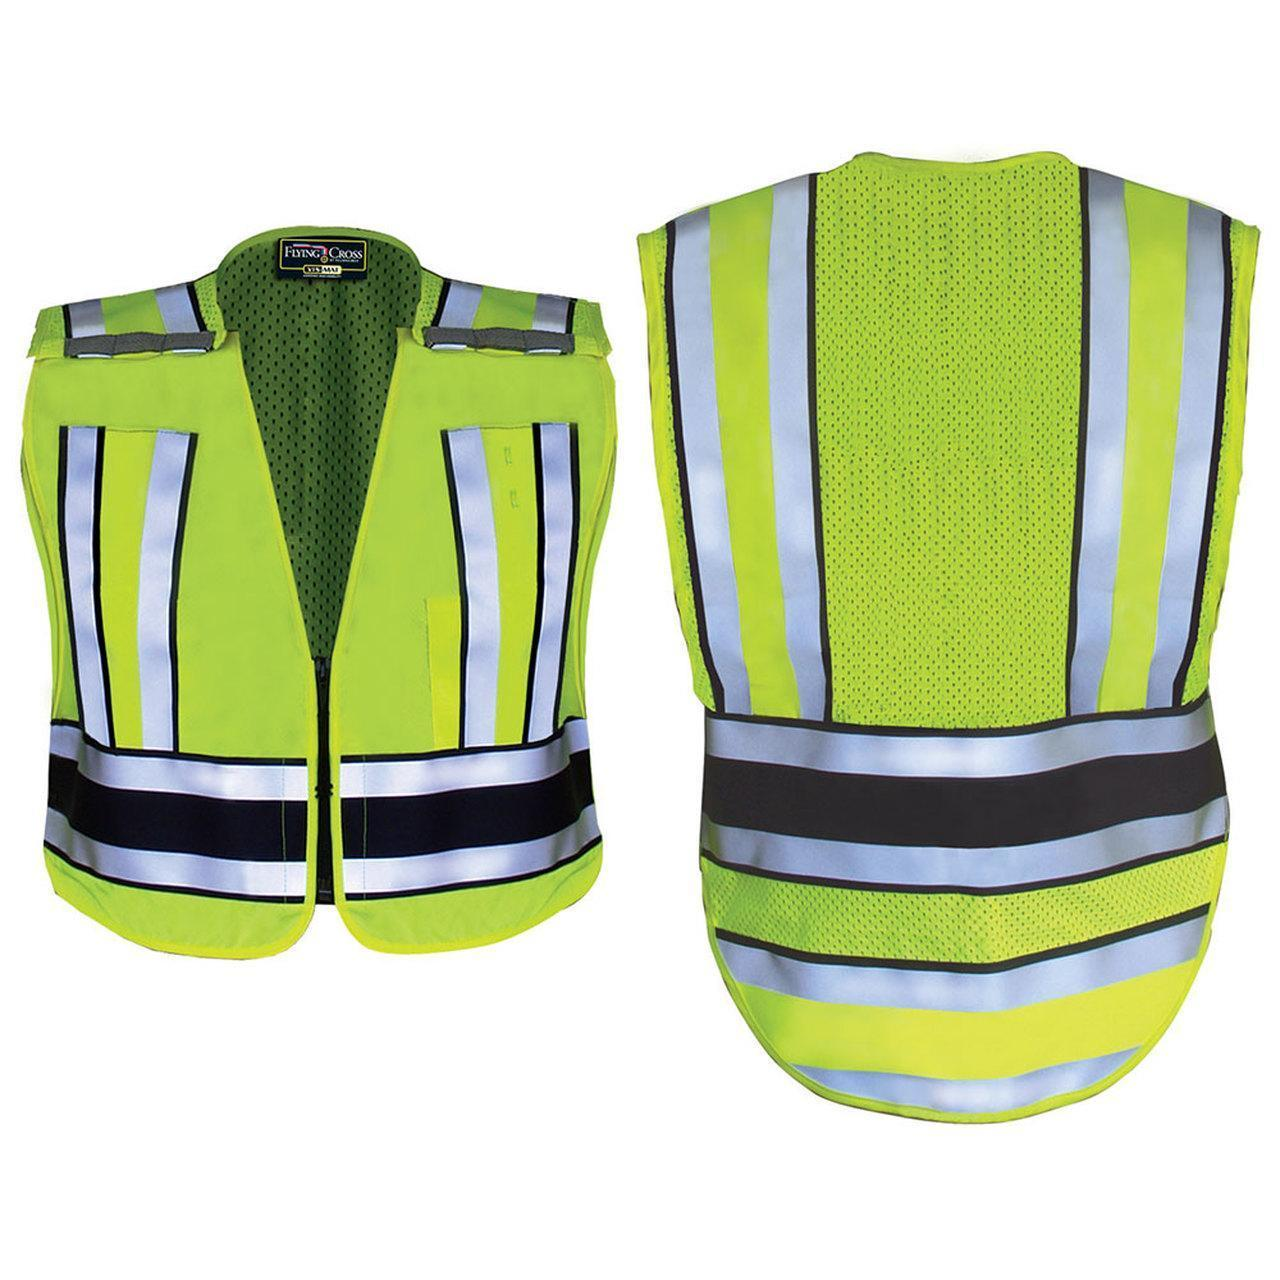vest: (631, 150, 1262, 1125), (18, 210, 619, 966)
